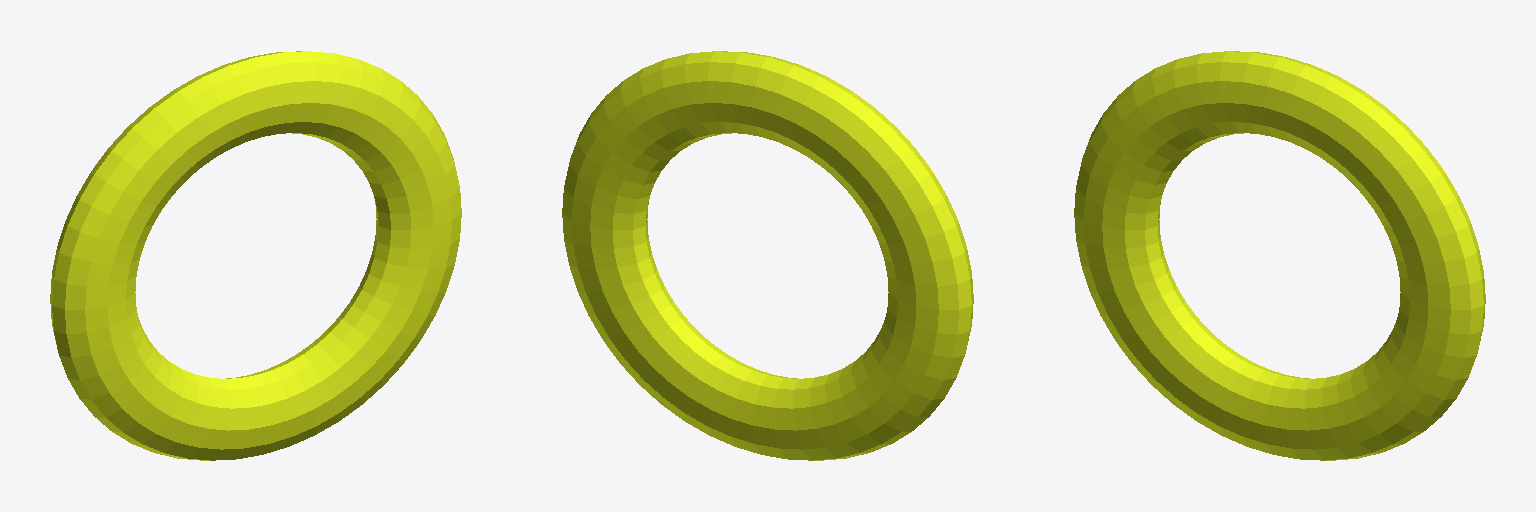
The picture shows the model from 3 angles: view 1: azimuth 30°, elevation 25°; view 2: azimuth 150°, elevation 25°; view 3: azimuth 330°, elevation 25°; orthographic projection.
Parts seen in each view (by area): view 1: トーラス; view 2: トーラス; view 3: トーラス.
Boxes of the visible parts, x1=… form: トーラス: x1=50, y1=51, x2=461, y2=460; トーラス: x1=562, y1=51, x2=973, y2=460; トーラス: x1=1074, y1=51, x2=1485, y2=460.
Size of the model in its own units: 9.19 by 8.56 by 1.14.
1 materials, 1 textured.